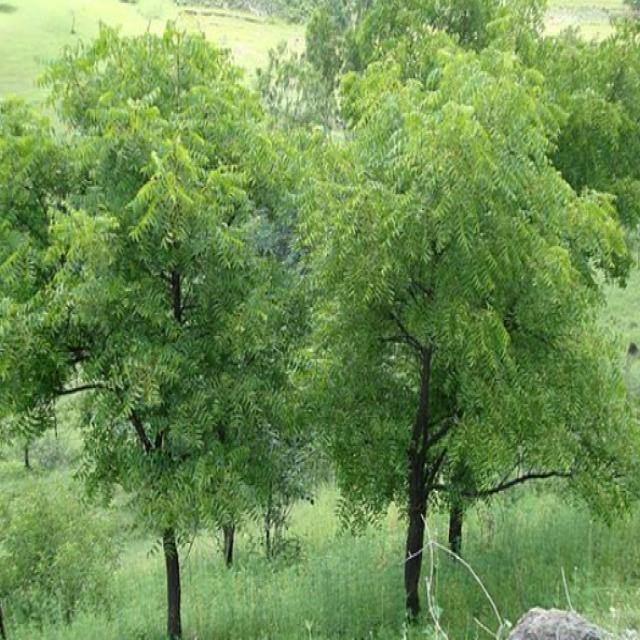Neem-Tree: (23, 46, 295, 640), (352, 79, 580, 640)
